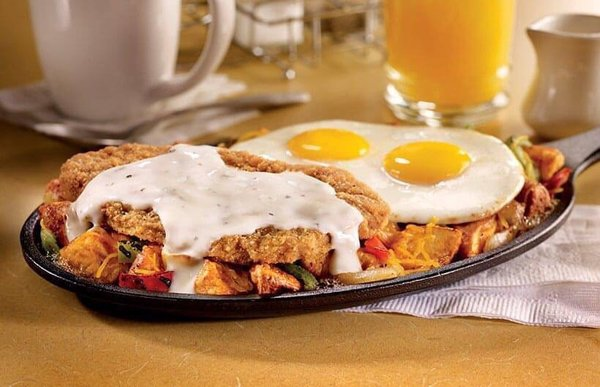pizza: (27, 0, 236, 128)
